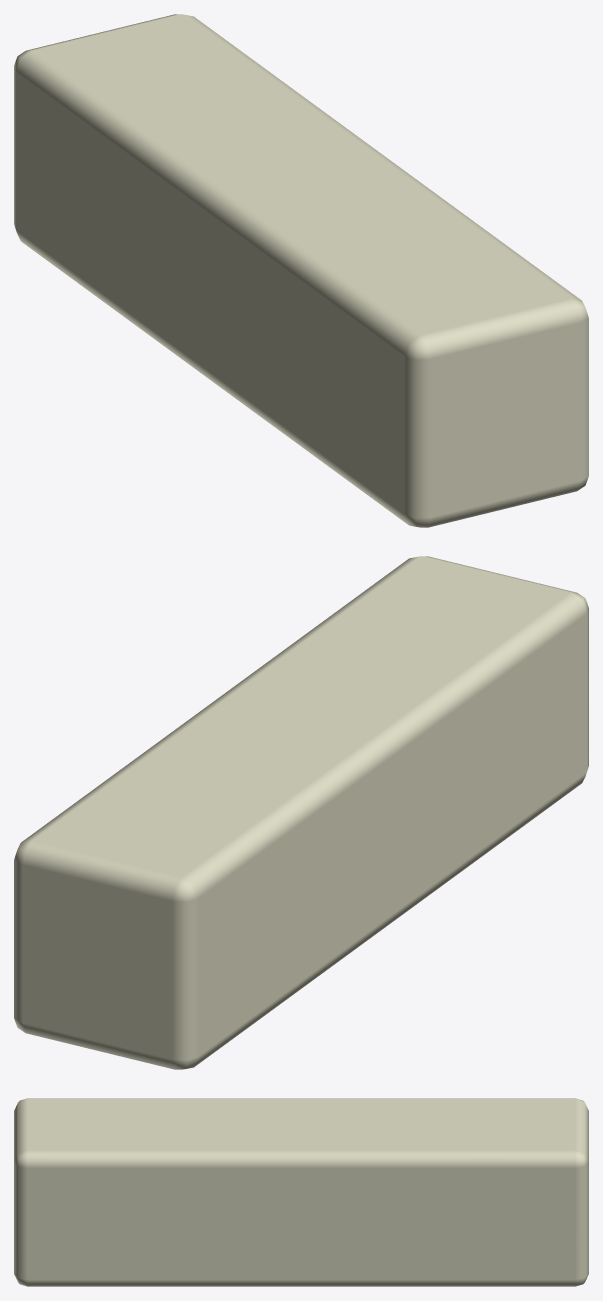
Rendered from retro-game-console-slot.fbx.
3 views of the same model, one above another, from view 1: azimuth 30°, elevation 25°; view 2: azimuth 150°, elevation 25°; view 3: azimuth 270°, elevation 25° (orthographic). The views are drawn at different scales.
Parts seen in each view (by area): view 1: Plane.004; view 2: Plane.004; view 3: Plane.004.
Boxes of the visible parts, x1,y1,x2,y2 form: Plane.004: [14, 14, 588, 527]; Plane.004: [14, 556, 588, 1069]; Plane.004: [14, 1098, 588, 1286].
Bounding box in the file's own units: 32.6 × 32.9 × 126.
